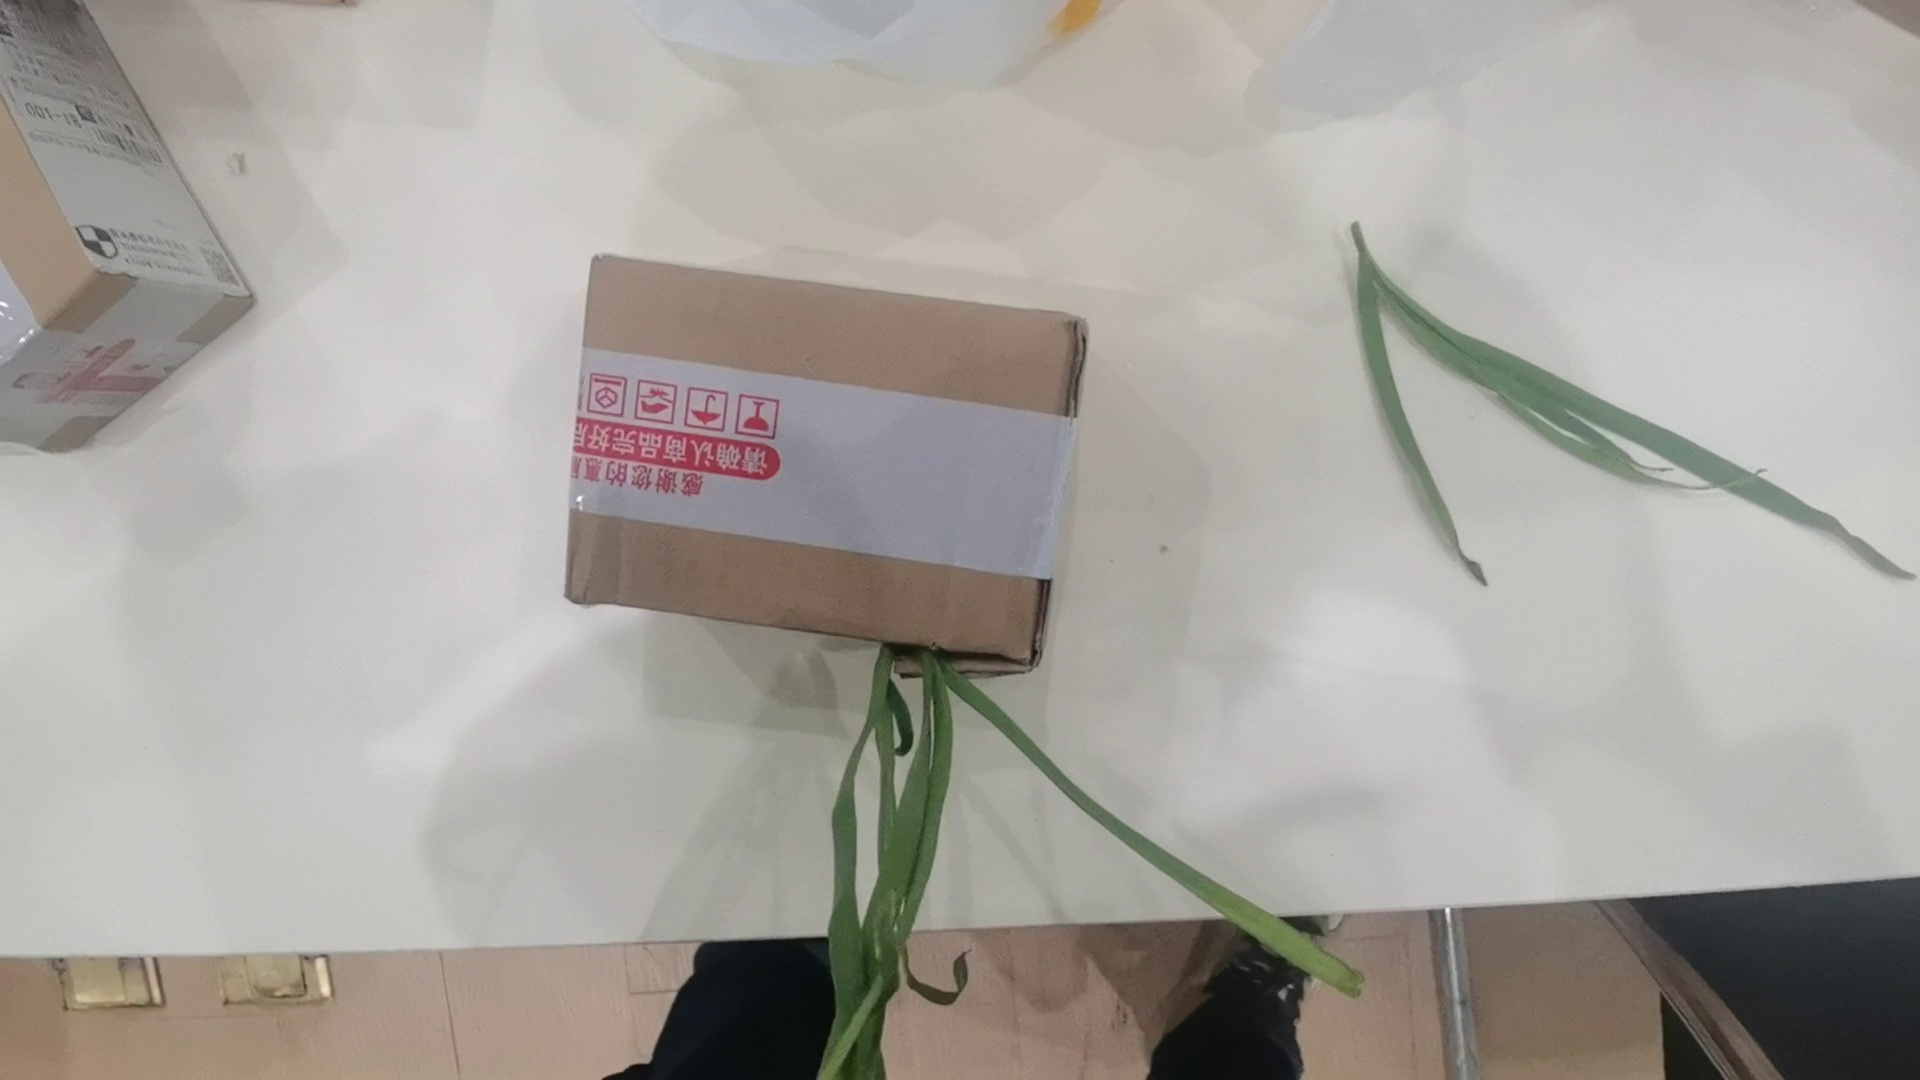chives: (748, 626, 1458, 1080), (1327, 218, 1920, 588)
